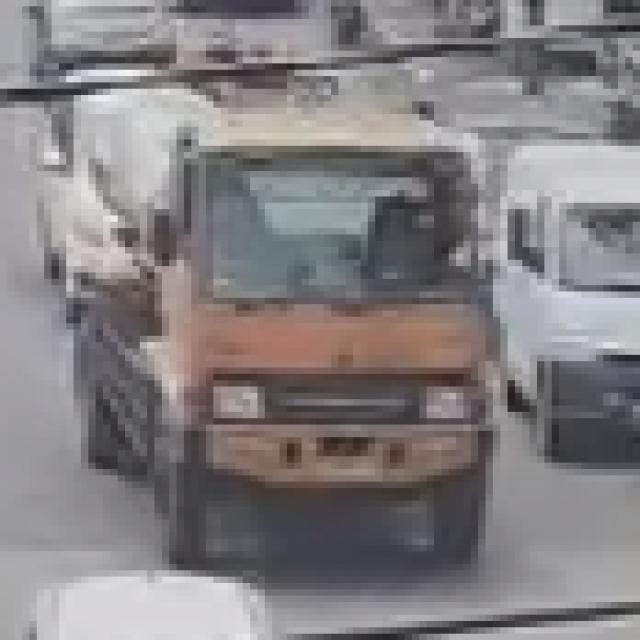truck: (116, 89, 512, 571)
